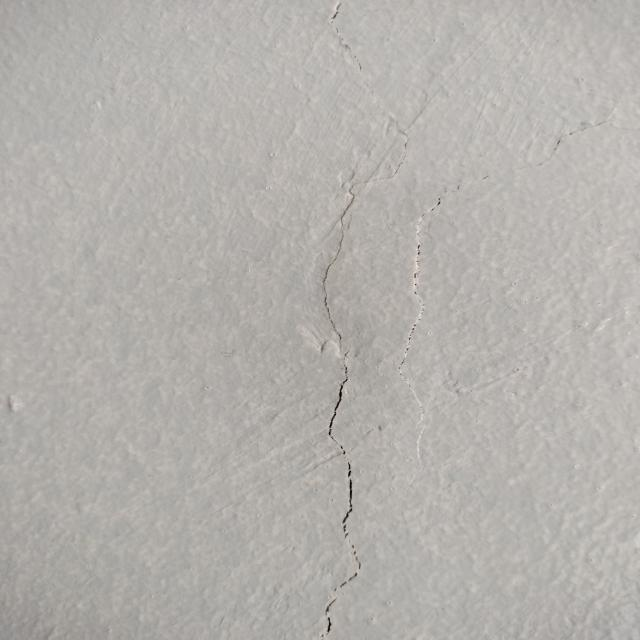Crack: (315, 167, 364, 640)
